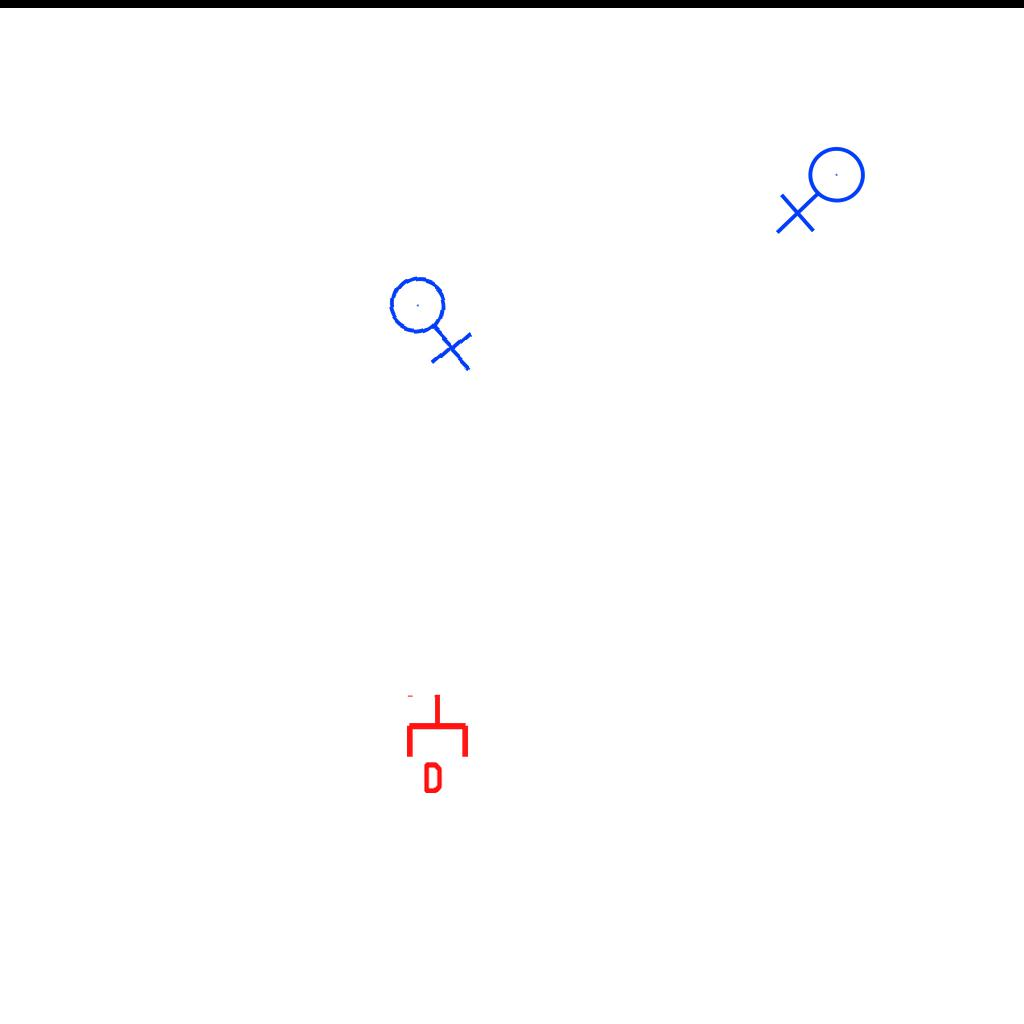Datenanschluss_einfach: (403, 693, 472, 793)
Elektroanschluss_allgemein_230V_Geraeteanschlussdose_230V: (381, 264, 486, 374), (775, 145, 874, 239)
